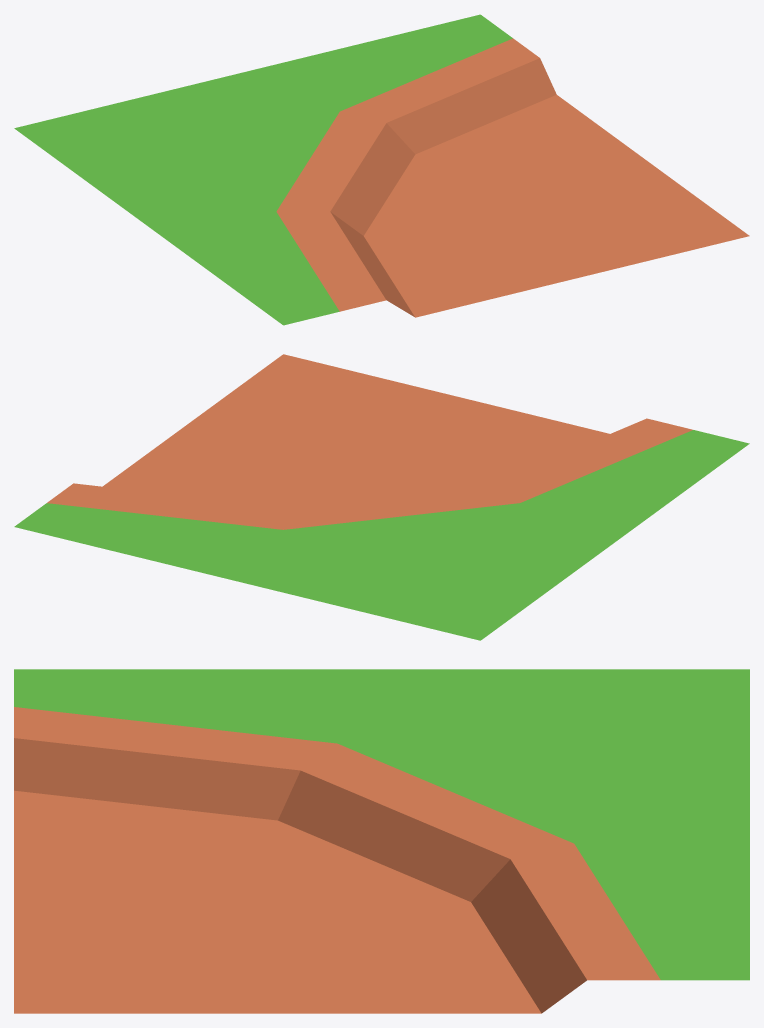
File: ground_pathCorner.glb
3 views of the same model, one above another, from view 1: azimuth 30°, elevation 25°; view 2: azimuth 150°, elevation 25°; view 3: azimuth 270°, elevation 25° (orthographic). The views are drawn at different scales.
Parts seen in each view (by area): view 1: ground_pathCorner; view 2: ground_pathCorner; view 3: ground_pathCorner.
Part boxes in pixels (left/top/right/bottom): ground_pathCorner: left=14, top=14, right=749, bottom=325; ground_pathCorner: left=14, top=354, right=749, bottom=640; ground_pathCorner: left=14, top=669, right=749, bottom=1013.
Bounding box in the file's own units: 1 × 0.05 × 1.
